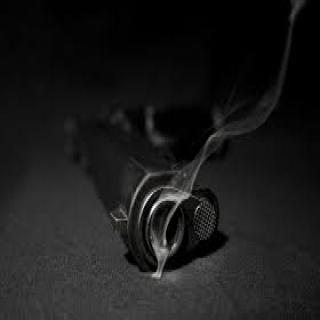gun: (61, 80, 244, 276)
